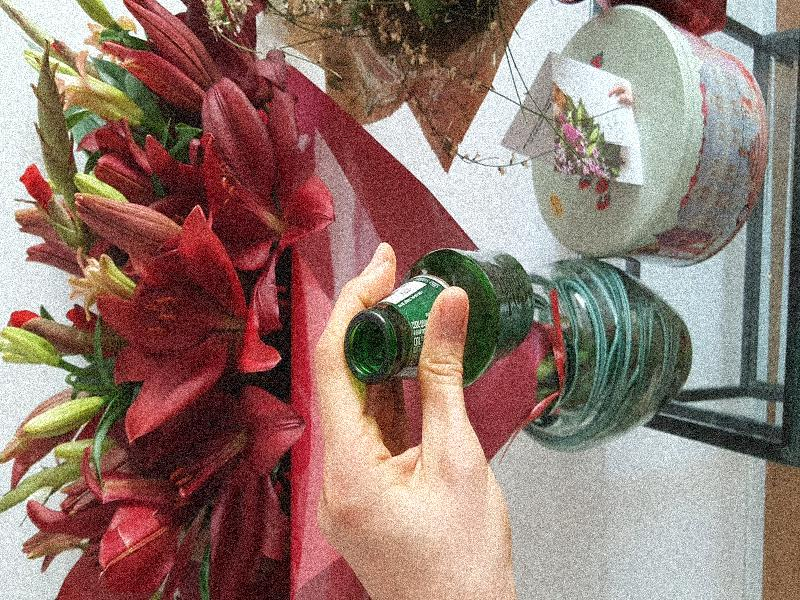Beer: (343, 248, 533, 388)
